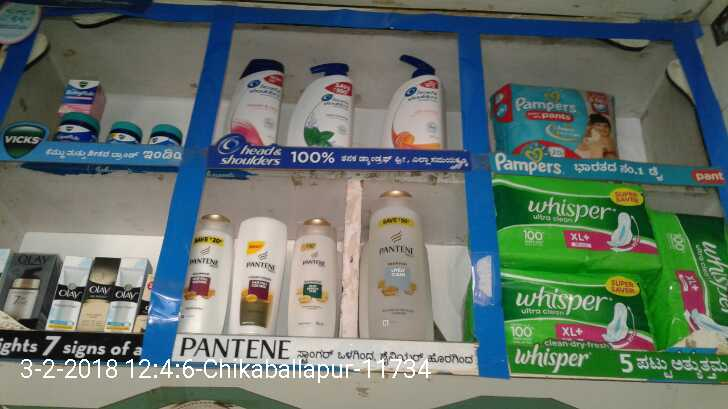beauty: (359, 182, 437, 340), (286, 62, 353, 148), (179, 214, 226, 332), (289, 216, 335, 335), (232, 216, 278, 331), (385, 52, 440, 148), (1, 250, 57, 336), (228, 52, 277, 147), (48, 254, 96, 337), (74, 255, 123, 331), (105, 254, 143, 334)
pharmacy: (493, 168, 659, 270), (501, 269, 651, 349), (651, 204, 728, 353), (489, 78, 620, 159), (57, 74, 101, 115), (105, 112, 143, 146), (56, 113, 99, 143), (147, 120, 181, 147)
